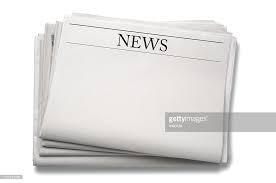Printing industry: (13, 5, 268, 177)
